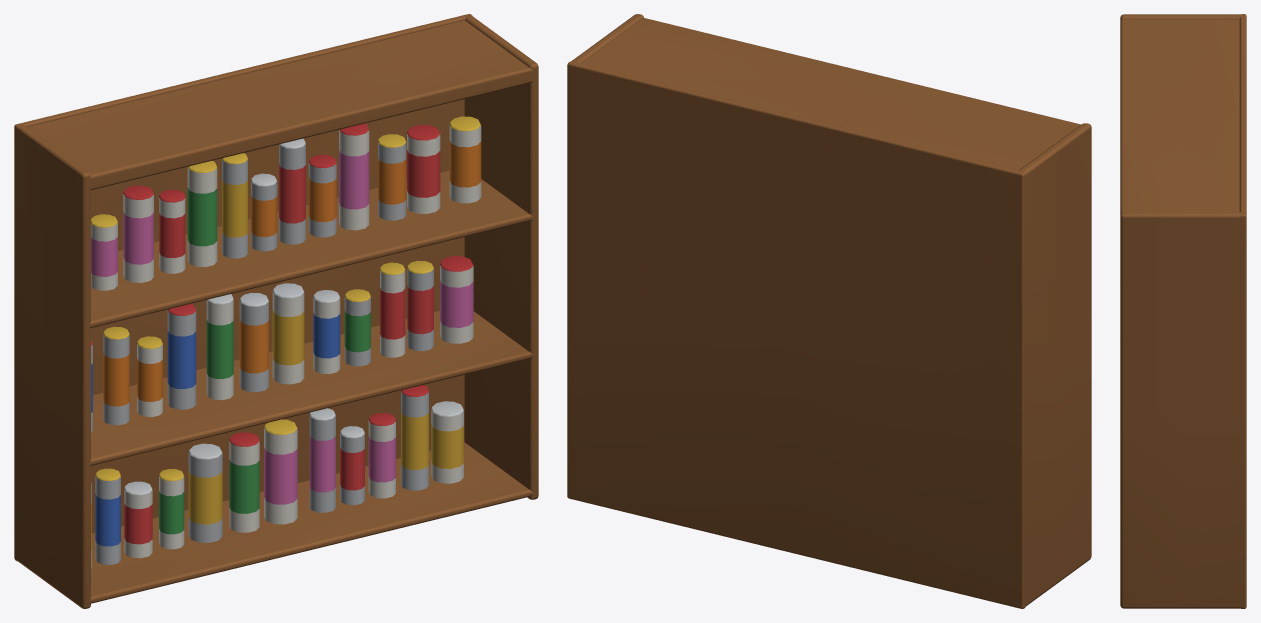
The model's file is furn_shelf_grocery.glb.
3 views of the same model, side by side, from view 1: azimuth 30°, elevation 25°; view 2: azimuth 150°, elevation 25°; view 3: azimuth 270°, elevation 25° (orthographic). The views are drawn at different scales.
Visible parts, largest first — view 1: furn_shelf_grocery_main; view 2: furn_shelf_grocery_main; view 3: furn_shelf_grocery_main.
Part boxes in pixels (<box>): furn_shelf_grocery_main: <box>14,14,538,608</box>; furn_shelf_grocery_main: <box>567,14,1091,608</box>; furn_shelf_grocery_main: <box>1120,14,1246,608</box>.
Bounding box in the file's own units: 1.7 × 1.55 × 0.45.
